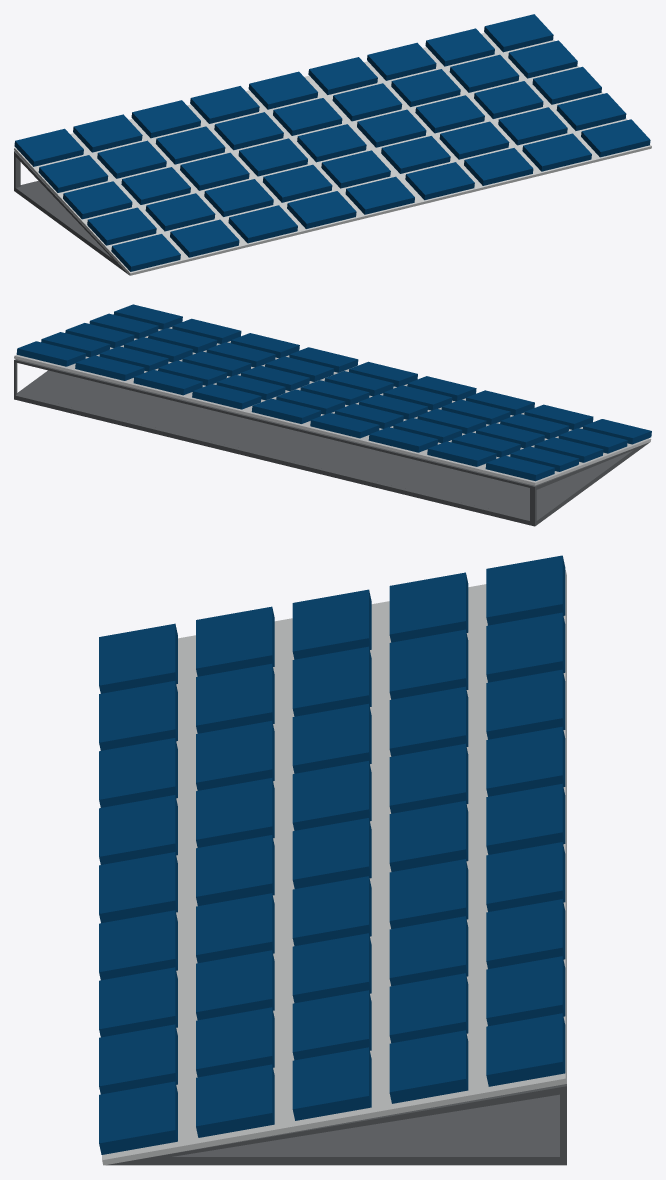
File: Solar Panel 5X9 small.glb
3 views of the same model, one above another, from view 1: azimuth 30°, elevation 25°; view 2: azimuth 150°, elevation 25°; view 3: azimuth 270°, elevation 25° (orthographic). The views are drawn at different scales.
Parts seen in each view (by area): view 1: Mesh_Mesh_head_geo.001_lambert2SG.001; view 2: Mesh_Mesh_head_geo.001_lambert2SG.001; view 3: Mesh_Mesh_head_geo.001_lambert2SG.001.
Part boxes in pixels (<box>): Mesh_Mesh_head_geo.001_lambert2SG.001: <box>14,14,651,275</box>; Mesh_Mesh_head_geo.001_lambert2SG.001: <box>14,304,651,526</box>; Mesh_Mesh_head_geo.001_lambert2SG.001: <box>99,555,566,1165</box>.
Size of the model in its own units: 275 by 25.65 by 107.
